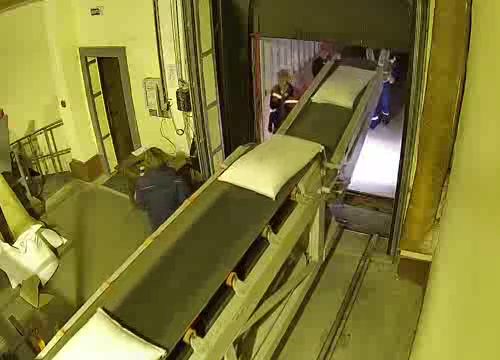bag: (216, 133, 324, 200), (51, 305, 167, 360), (310, 63, 377, 109)
